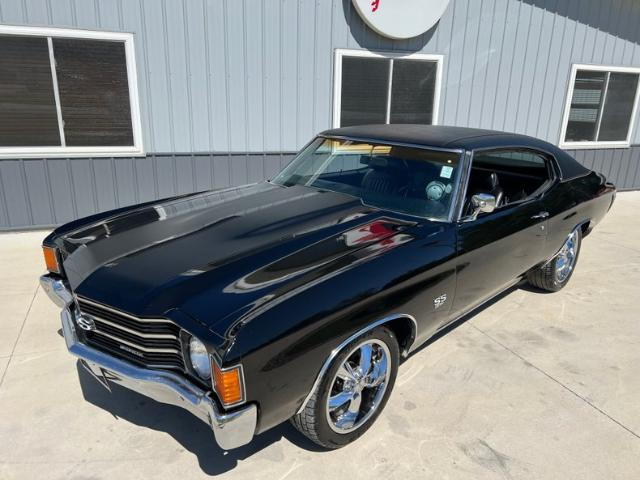chevelle-1972: (41, 124, 616, 449)
